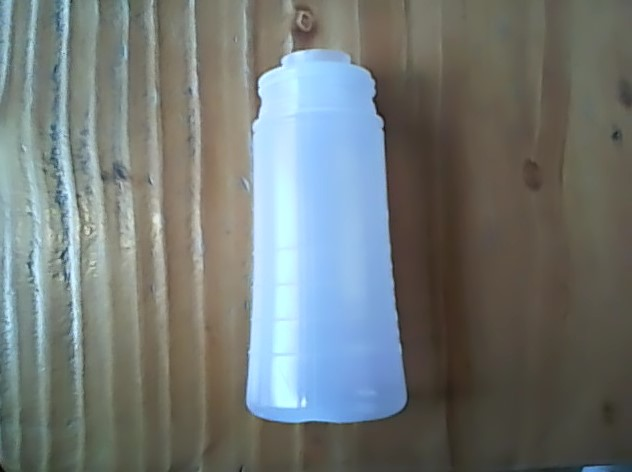Plastic: (233, 41, 413, 428)
